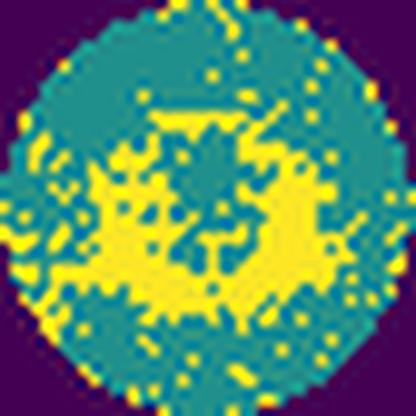Donut: (72, 86, 363, 332)
